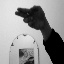h: (14, 5, 48, 31)
